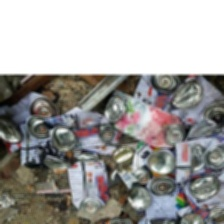aerosol_cans: (100, 89, 187, 150), (0, 86, 64, 145), (166, 68, 223, 133), (61, 149, 111, 216), (126, 131, 180, 185), (138, 171, 191, 224), (172, 132, 223, 187), (15, 113, 60, 172), (183, 176, 224, 224)
